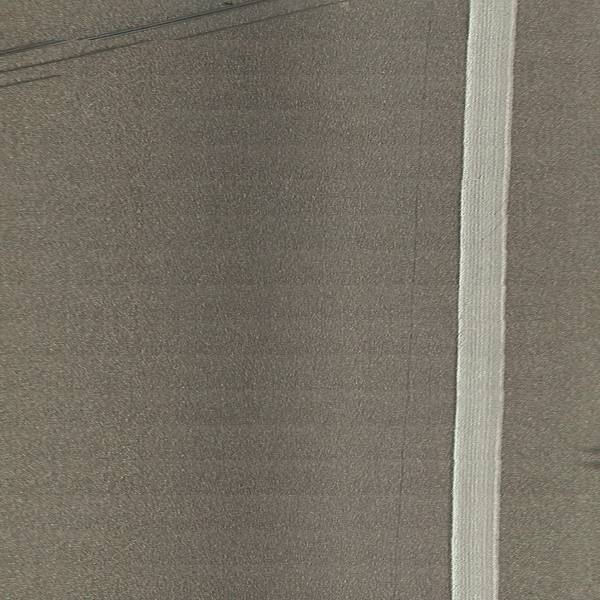road_damage: (20, 1, 259, 55)
